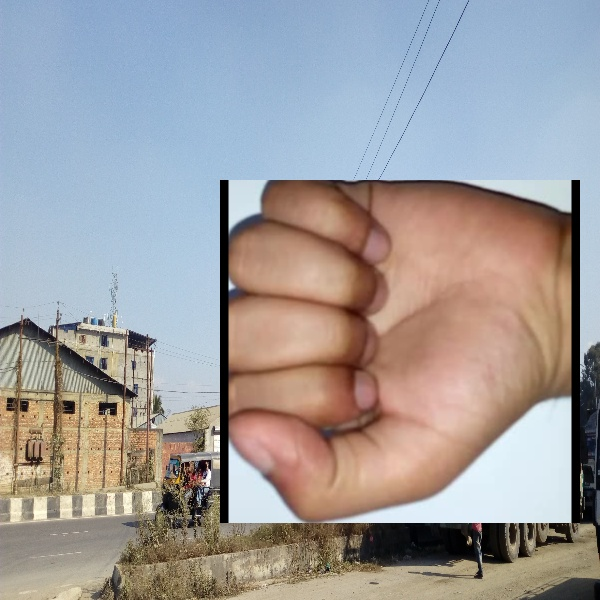A: (220, 180, 580, 523)
